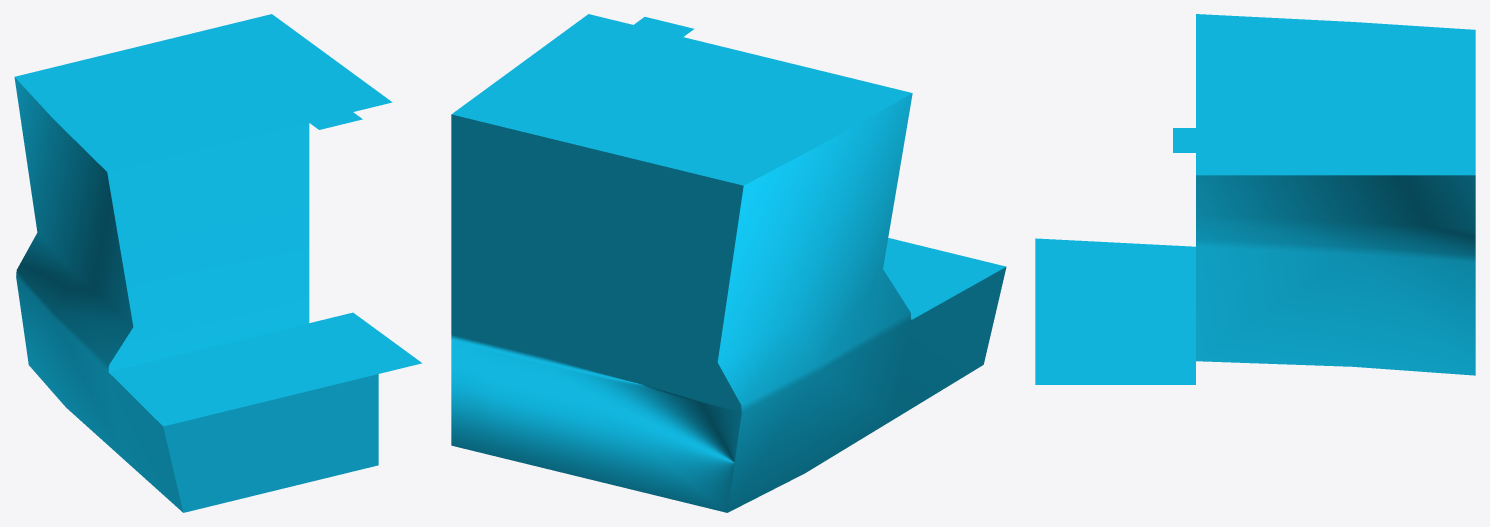
The model's file is woda_1_6_1.FBX.
3 views of the same model, side by side, from view 1: azimuth 30°, elevation 25°; view 2: azimuth 150°, elevation 25°; view 3: azimuth 270°, elevation 25° (orthographic). The views are drawn at different scales.
Visible parts, largest first — view 1: woda_1_6_1; view 2: woda_1_6_1; view 3: woda_1_6_1.
Part boxes in pixels (left/top/right/bottom): woda_1_6_1: left=14, top=14, right=421, bottom=512; woda_1_6_1: left=451, top=14, right=1006, bottom=512; woda_1_6_1: left=1035, top=14, right=1475, bottom=384.
Size of the model in its own units: 8.15 by 7.6 by 8.98.
